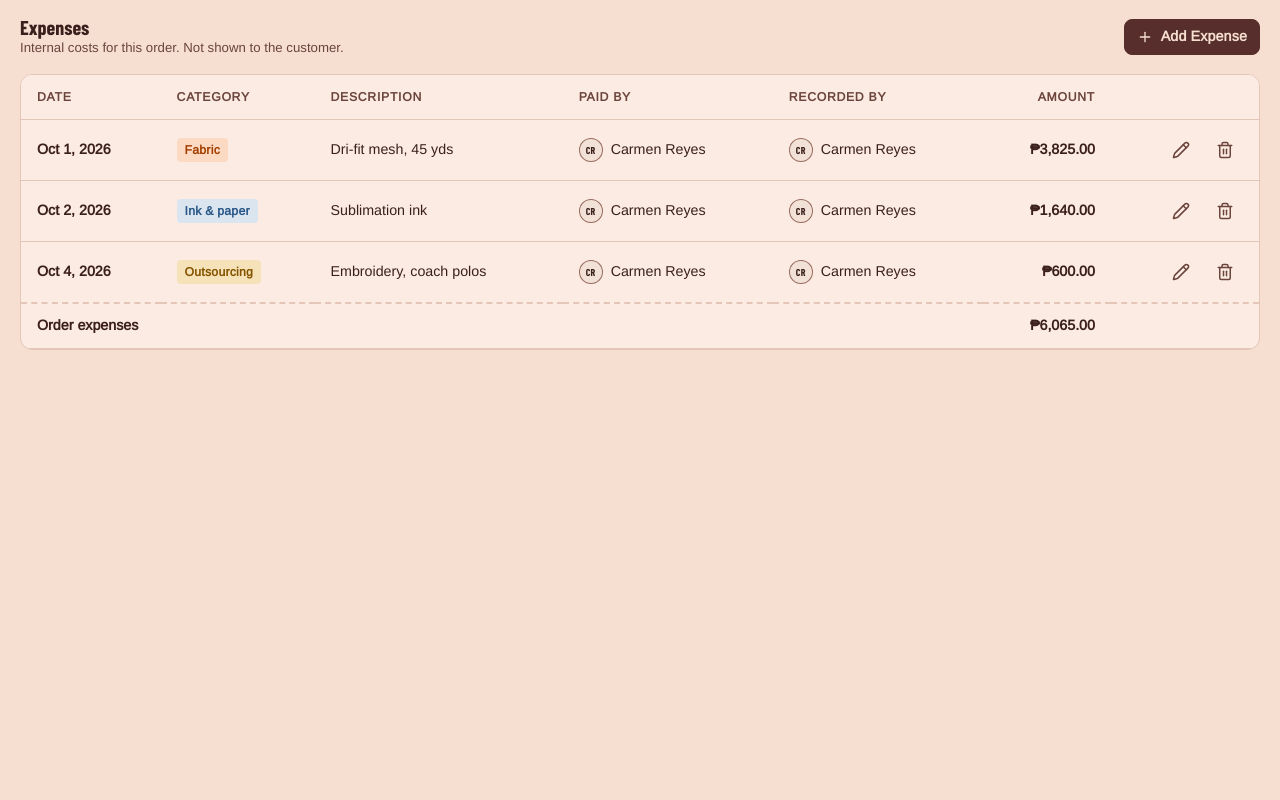
Test case: Delete expense of › says "This expense was removed." when the expense is already gone (404)
Click the button named "Delete expense of ₱3,825.00, Oct 1, 2026" at (1225, 150), box [1207,132,1243,168]
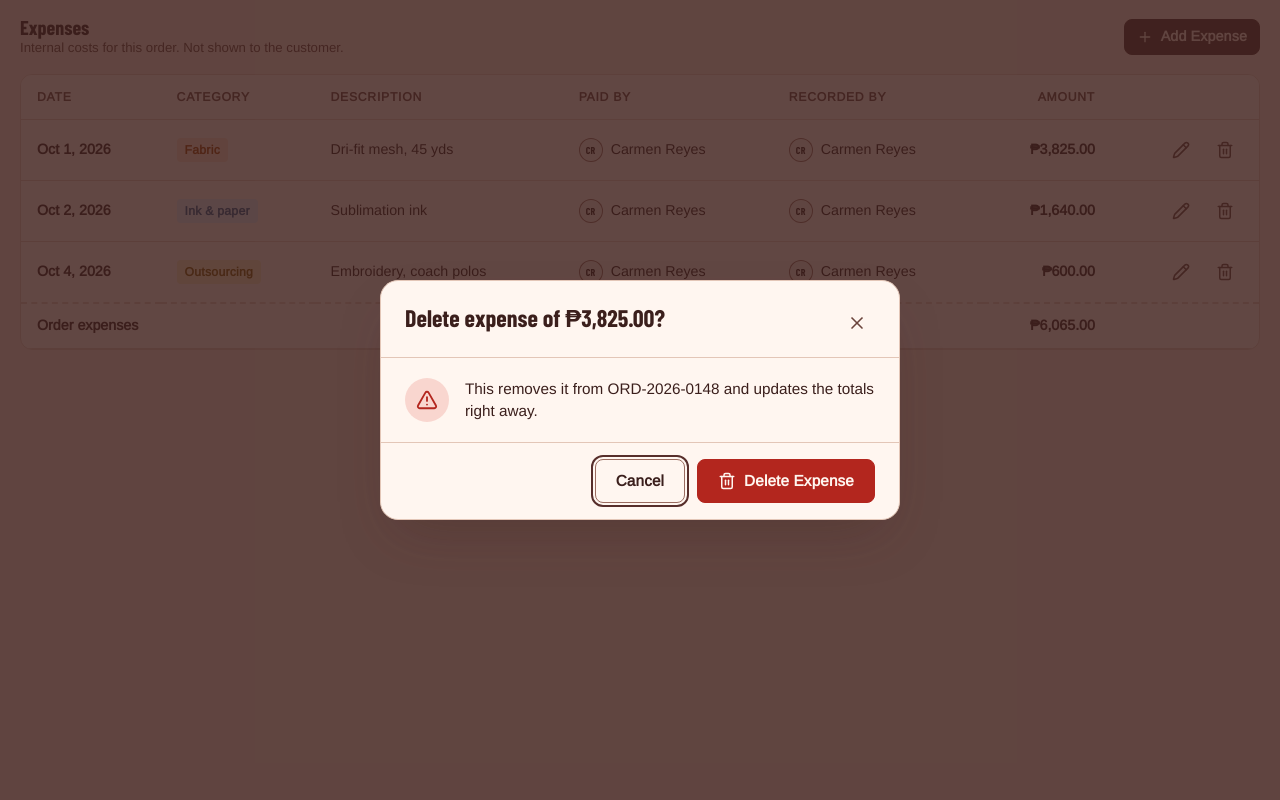
Click the button "Delete Expense" at (786, 481), box [697,459,875,503]
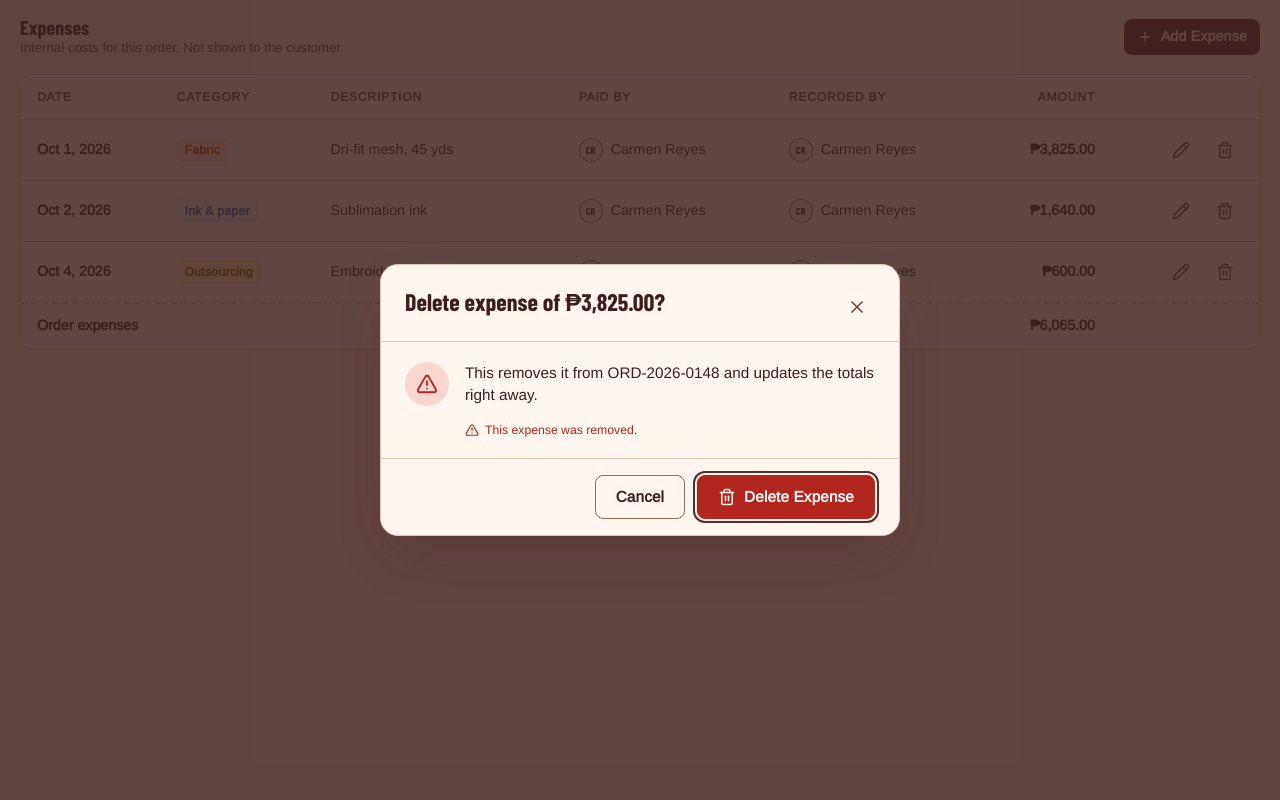
Expected: the dialog "Delete expense of ₱3,825.00?" is shown, [380,264,900,536]
Expected: the message reads "This expense was removed.", [485,423,637,437]
